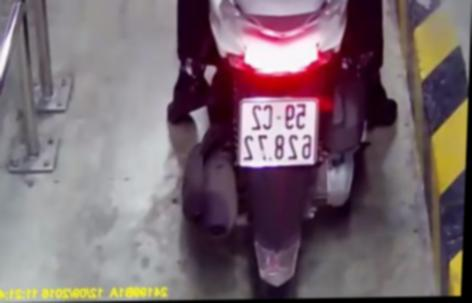License_Plate: (226, 94, 325, 175)
